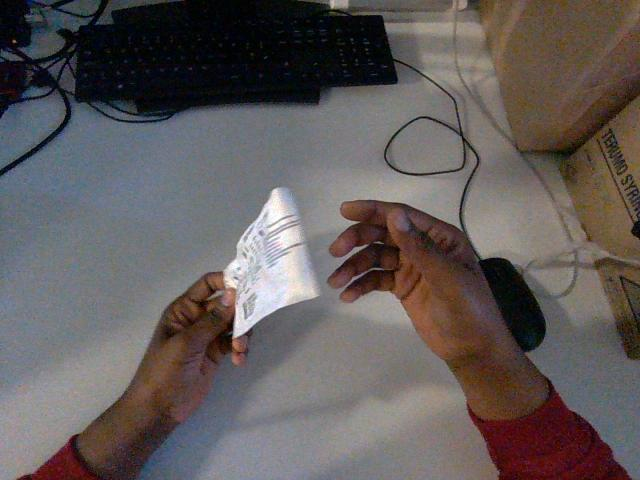syringe: (224, 187, 319, 337)
